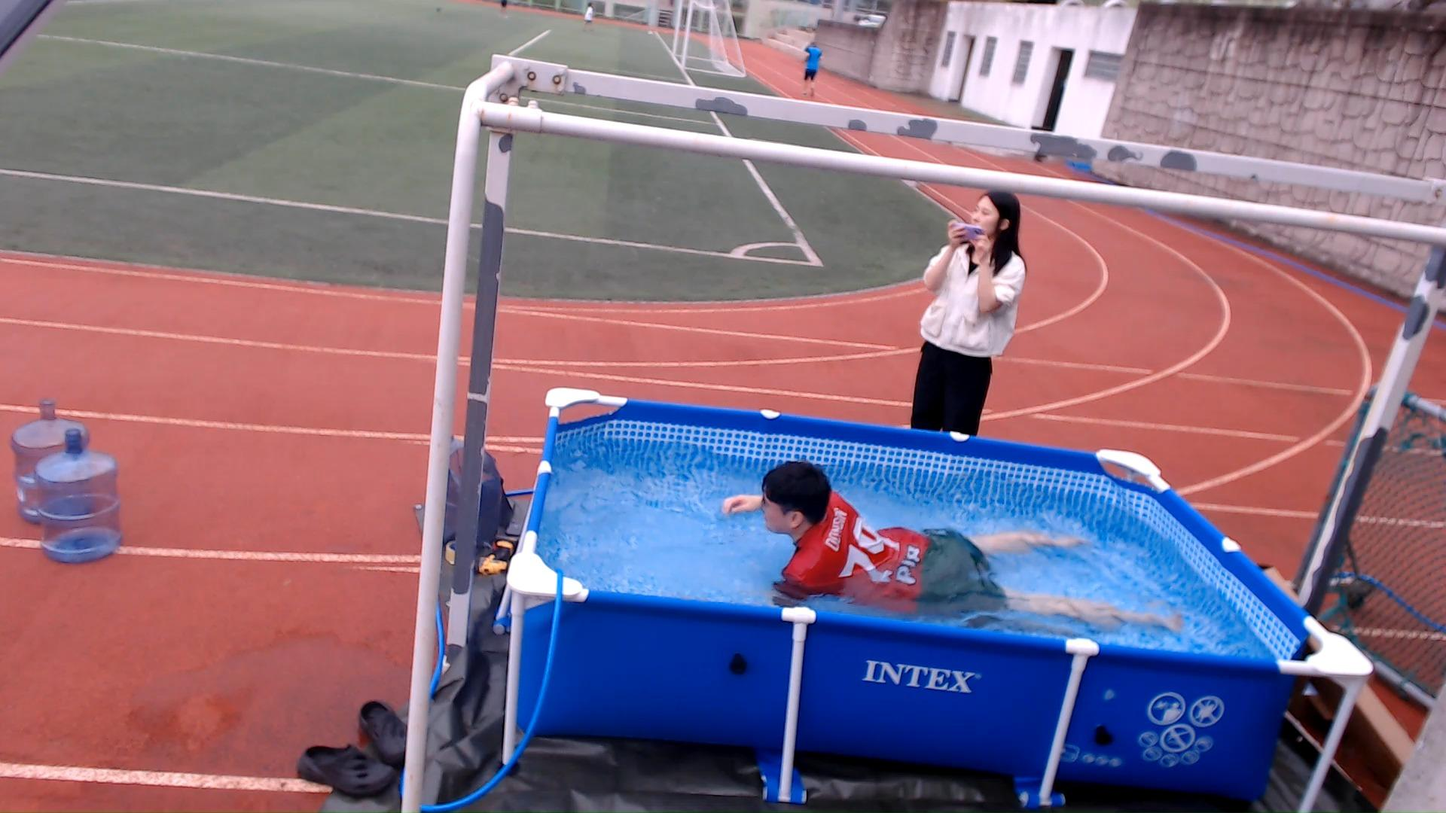Person-out-of-water: (900, 155, 1042, 441), (794, 26, 837, 97)
Swimming: (666, 438, 1190, 659)
